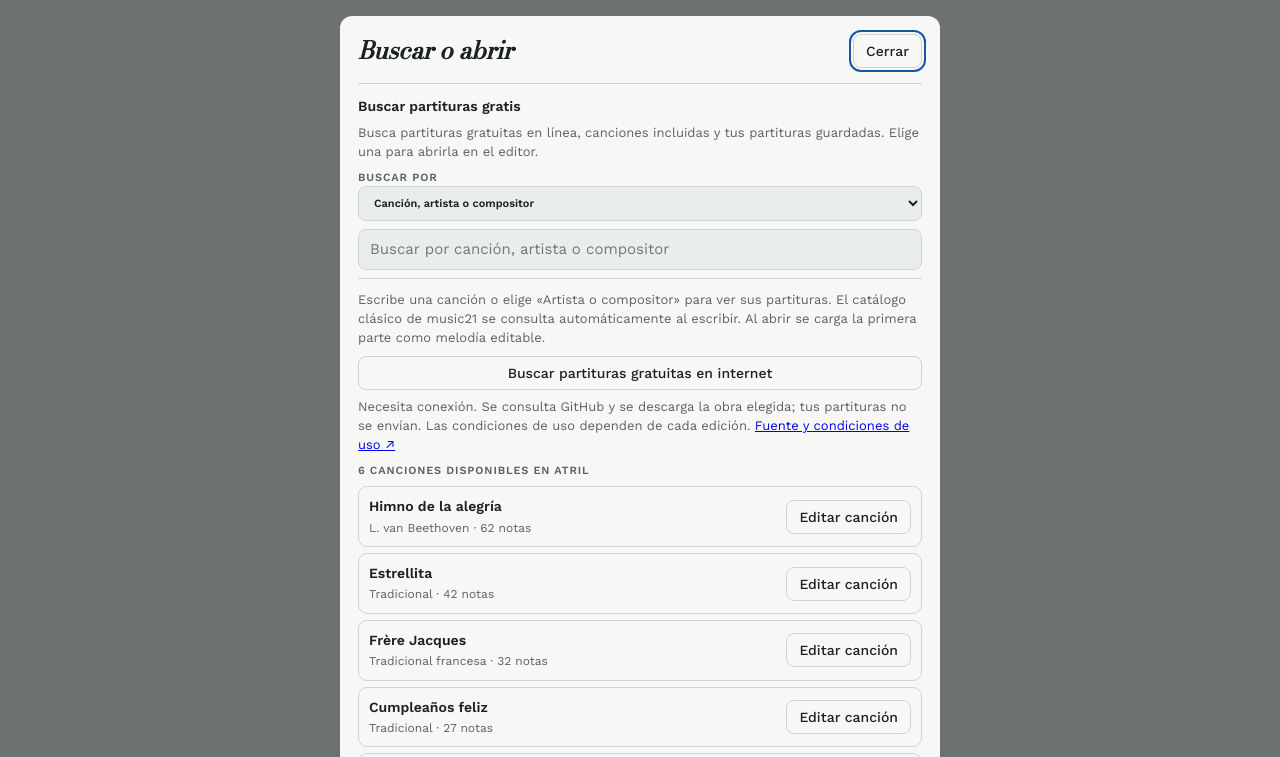
Test: FindOverlay › el selector de artista muestra sus canciones incluidas
The image size is (1280, 757).
Select "Artista o compositor" in the dropdown labelled "Buscar por" at (640, 203), box [358, 186, 922, 221]
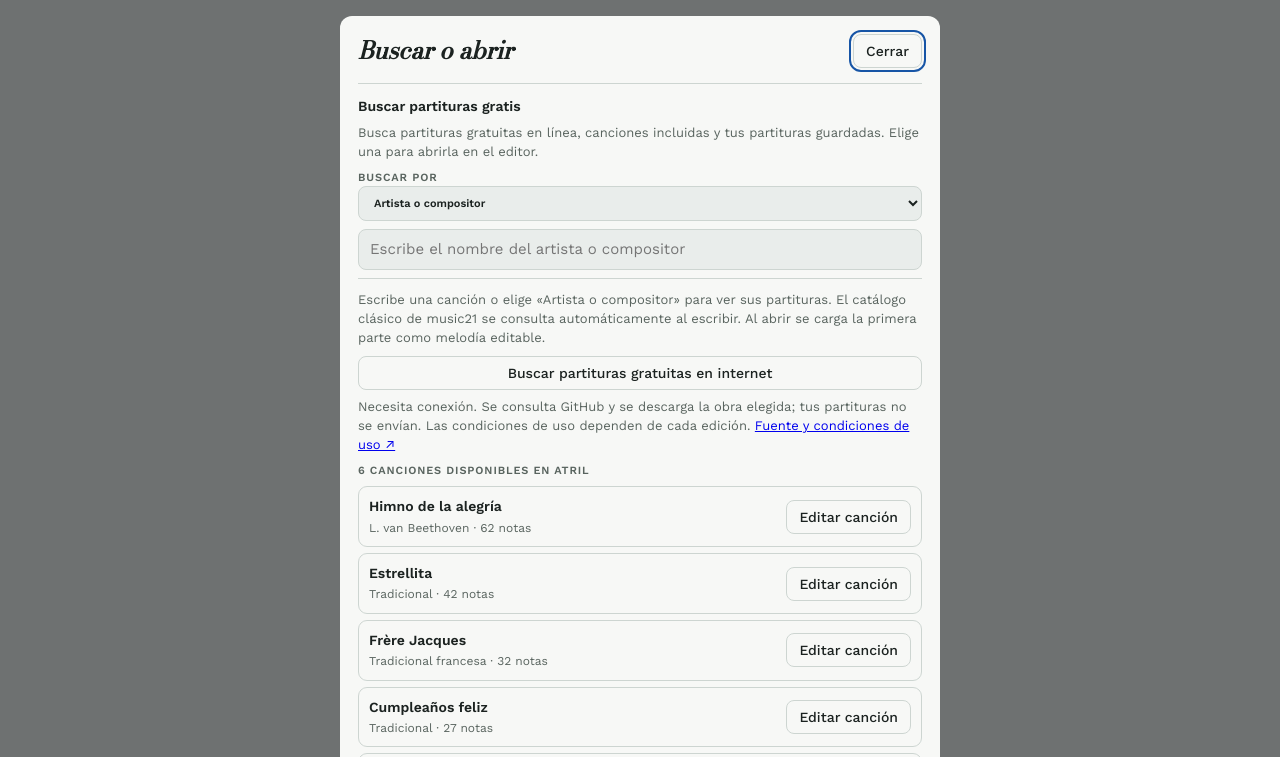
Type "Beethoven" into the search field at (640, 250), box [358, 229, 922, 270]
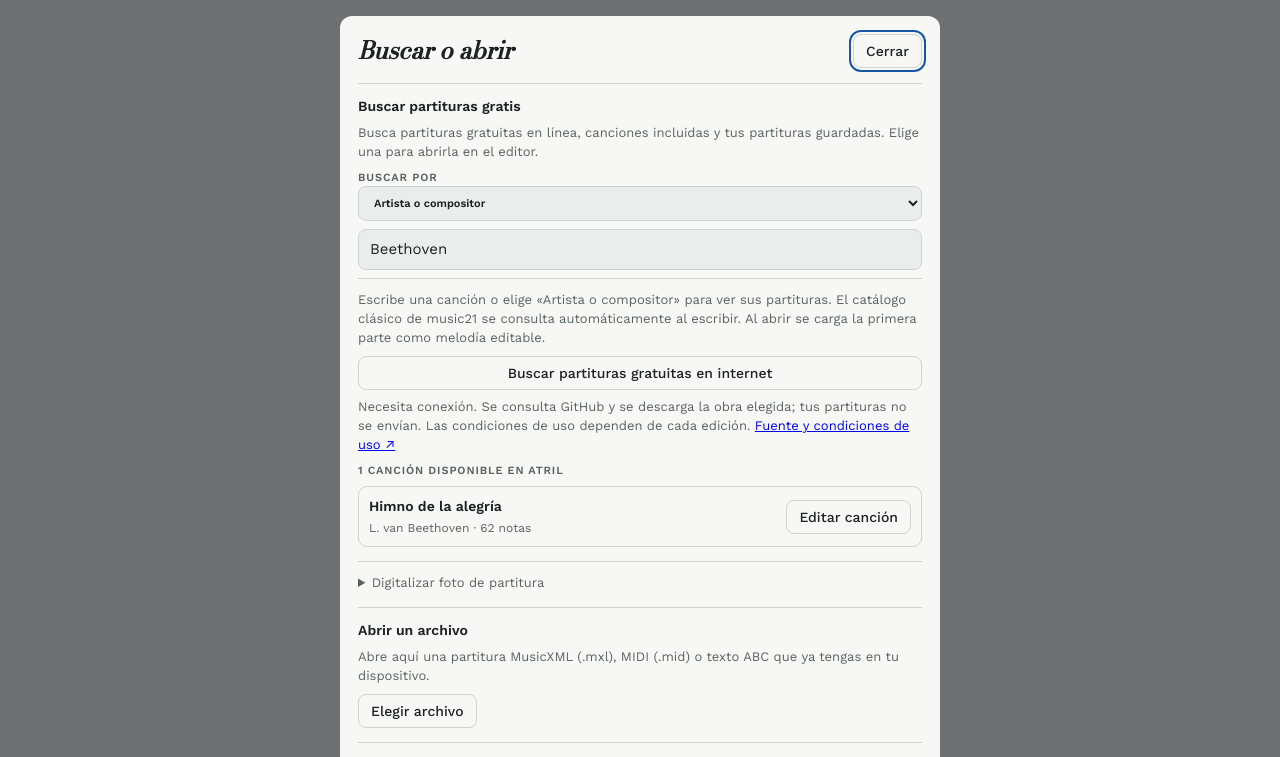
Expected: the text "Himno de la alegría" is shown, [369, 498, 502, 514]
Expected: the button "Editar canción" is shown, [786, 500, 911, 534]
Replace the text in the search field with "Estrellita" at (640, 250), box [358, 229, 922, 270]
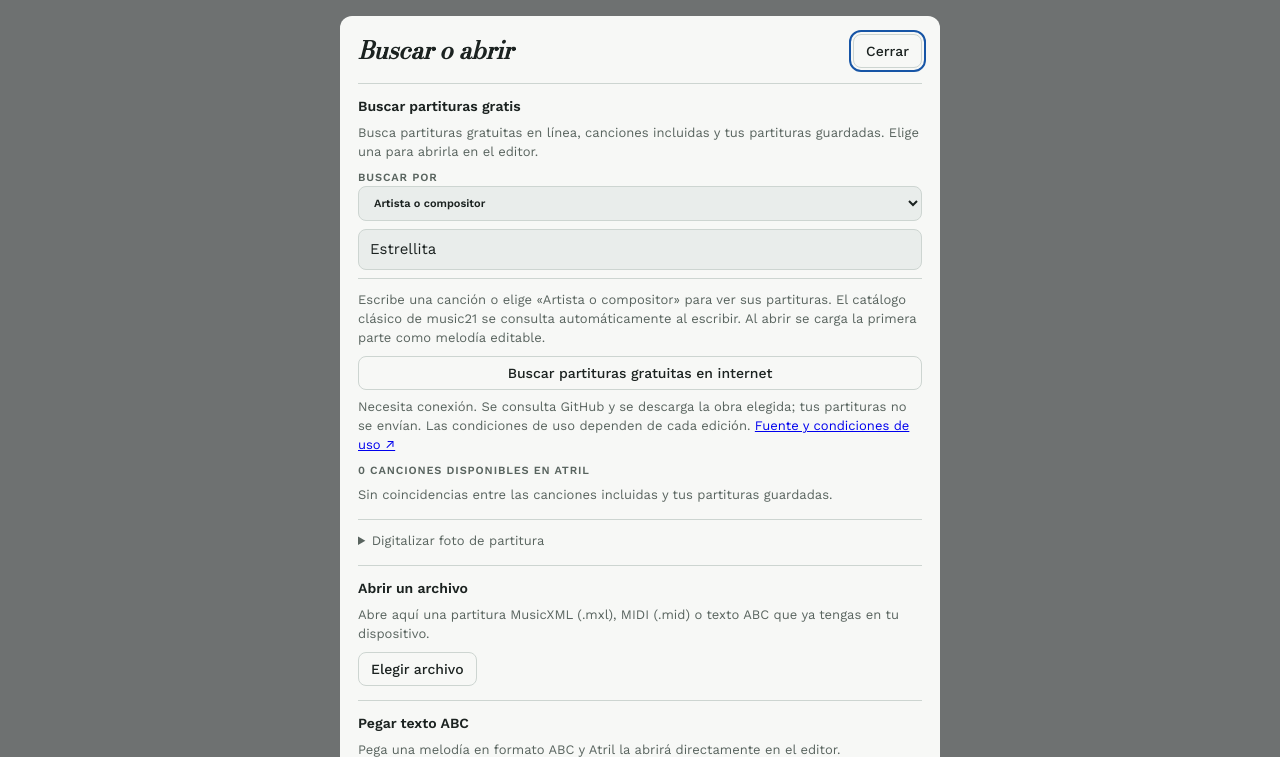
Expected: the button "Editar canción" is gone
